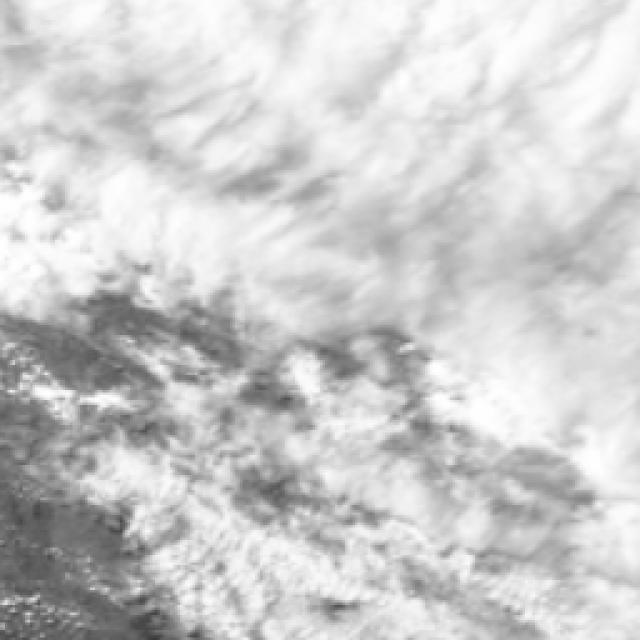CB: (313, 15, 622, 123)
